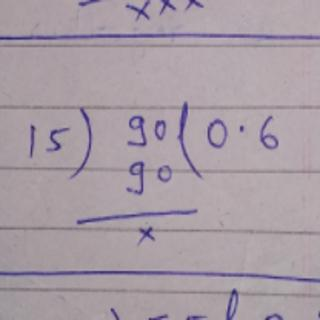.: (232, 122, 250, 136)
0: (208, 118, 229, 147), (155, 162, 172, 186), (152, 118, 167, 145)
1: (24, 124, 37, 159)
5: (46, 123, 74, 155)
6: (259, 114, 282, 152)
9: (127, 113, 150, 148), (128, 159, 147, 199)
